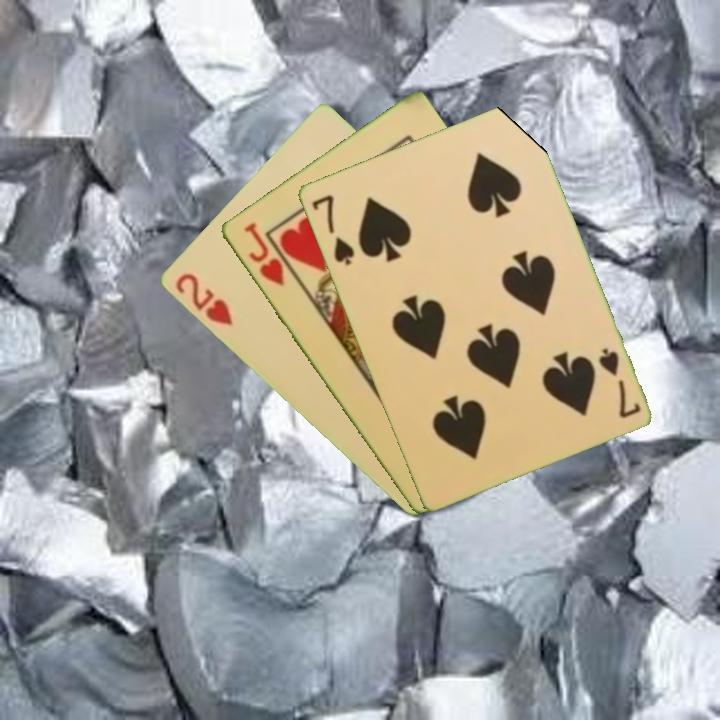2h: (171, 270, 236, 329)
7s: (308, 190, 357, 268), (594, 344, 643, 421)
Jh: (239, 218, 287, 290)
